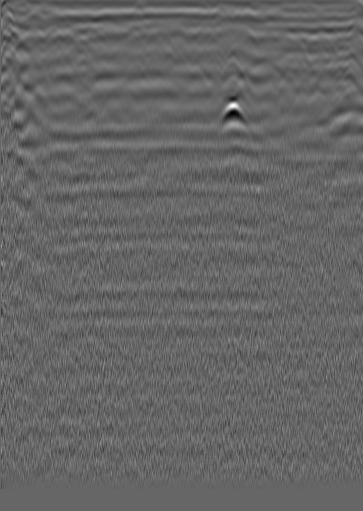가스: (216, 101, 248, 132)
상수: (312, 26, 332, 46)
오수: (23, 8, 43, 28)
우수: (148, 28, 168, 48)
